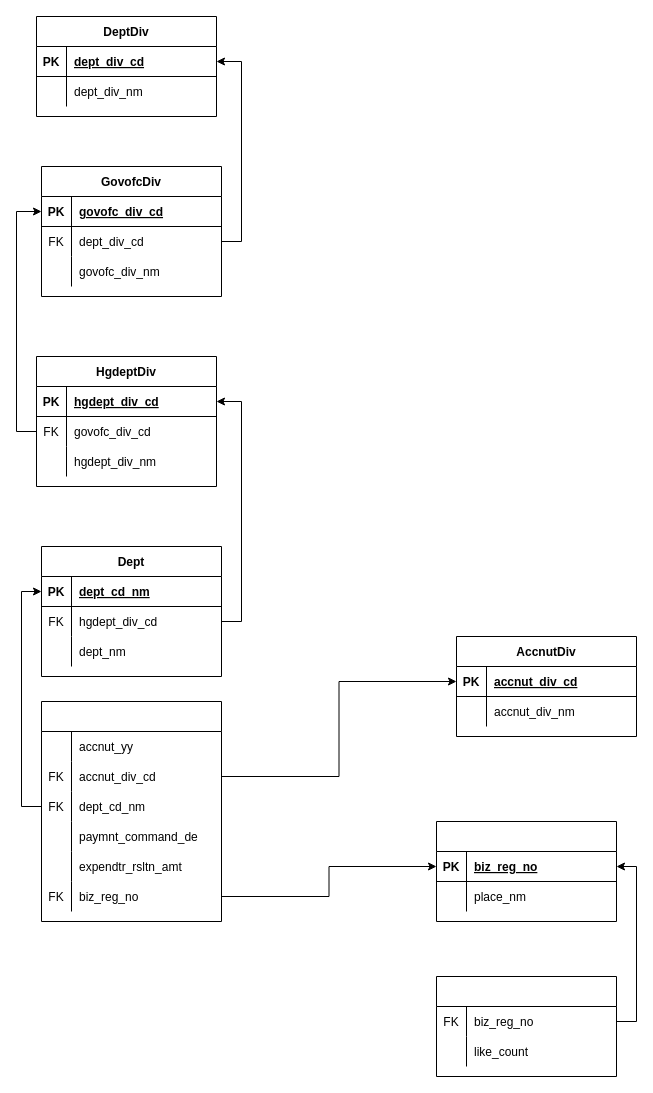
The diagram is 653 pixels wide and 1093 high, and some of its shapes have lost their labels. Each missing label, with the box of its shape:
BizPlace: (436, 820, 616, 922)
ExpendtrExcut: (40, 700, 222, 922)
UserRecommend: (436, 976, 616, 1076)
